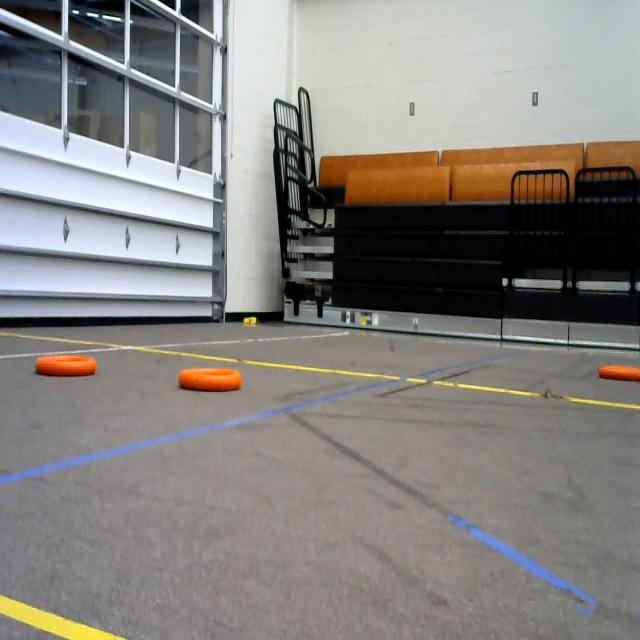note: (176, 361, 245, 406), (32, 348, 100, 385), (598, 353, 640, 389)
